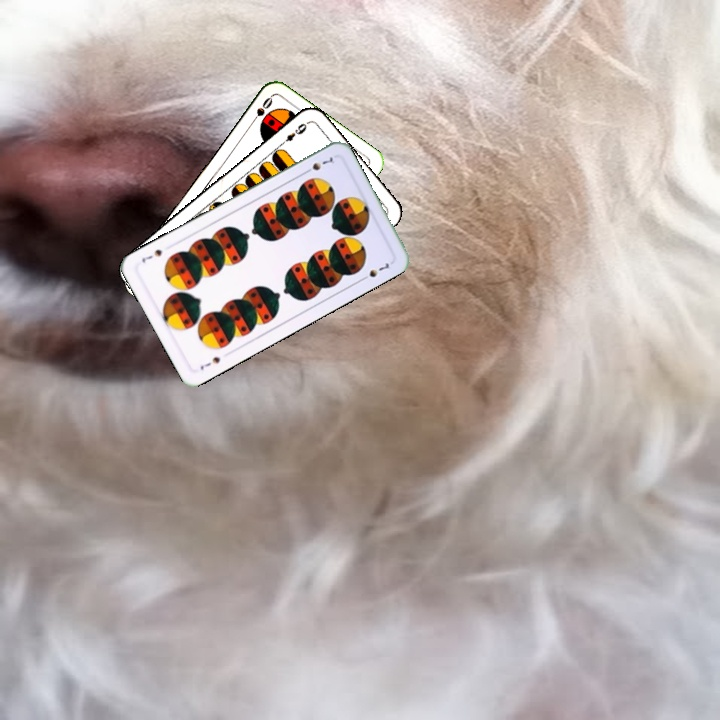E9: (276, 119, 310, 148)
S7: (300, 153, 338, 177), (196, 352, 223, 373)
SO: (246, 93, 275, 128)
